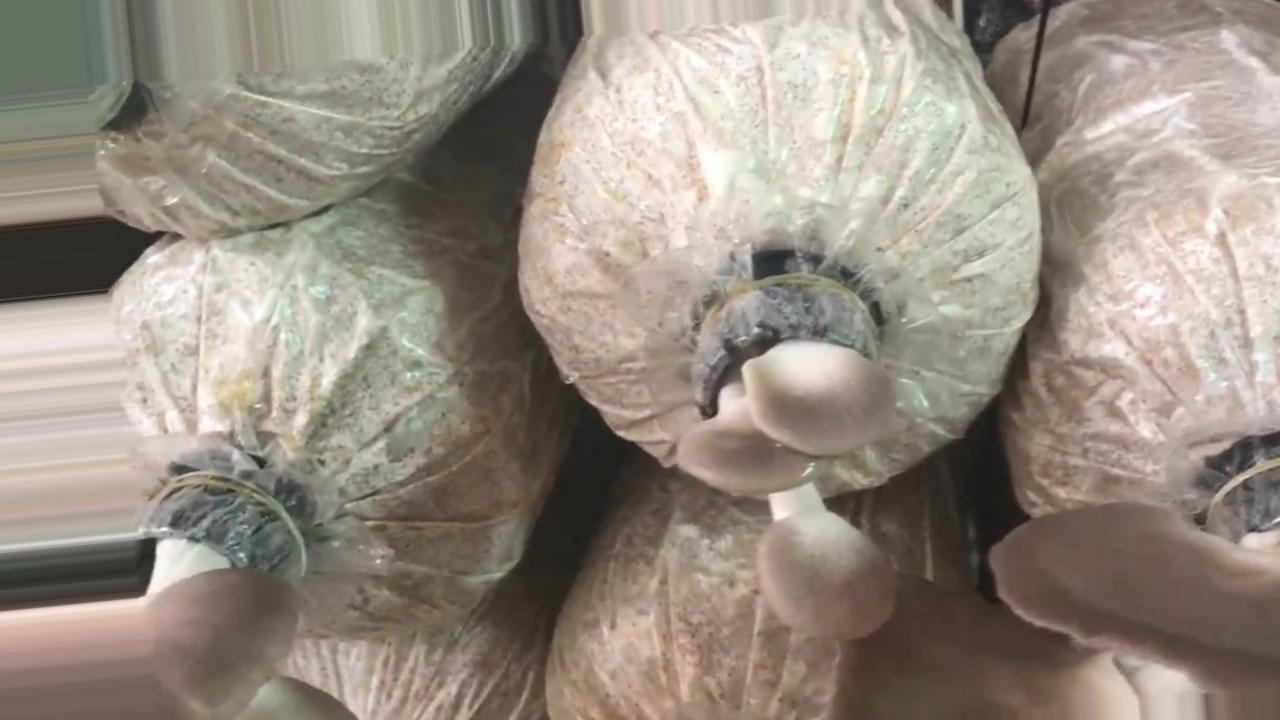nam: (838, 462, 1280, 718), (1, 481, 348, 720), (685, 277, 898, 640)
